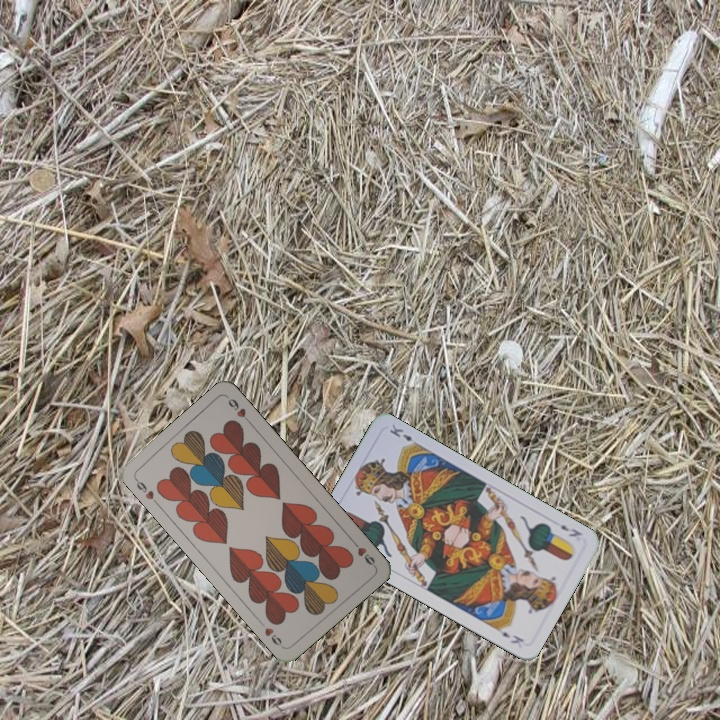EK: (557, 520, 585, 539)
H9: (347, 535, 378, 569), (131, 474, 161, 508)
